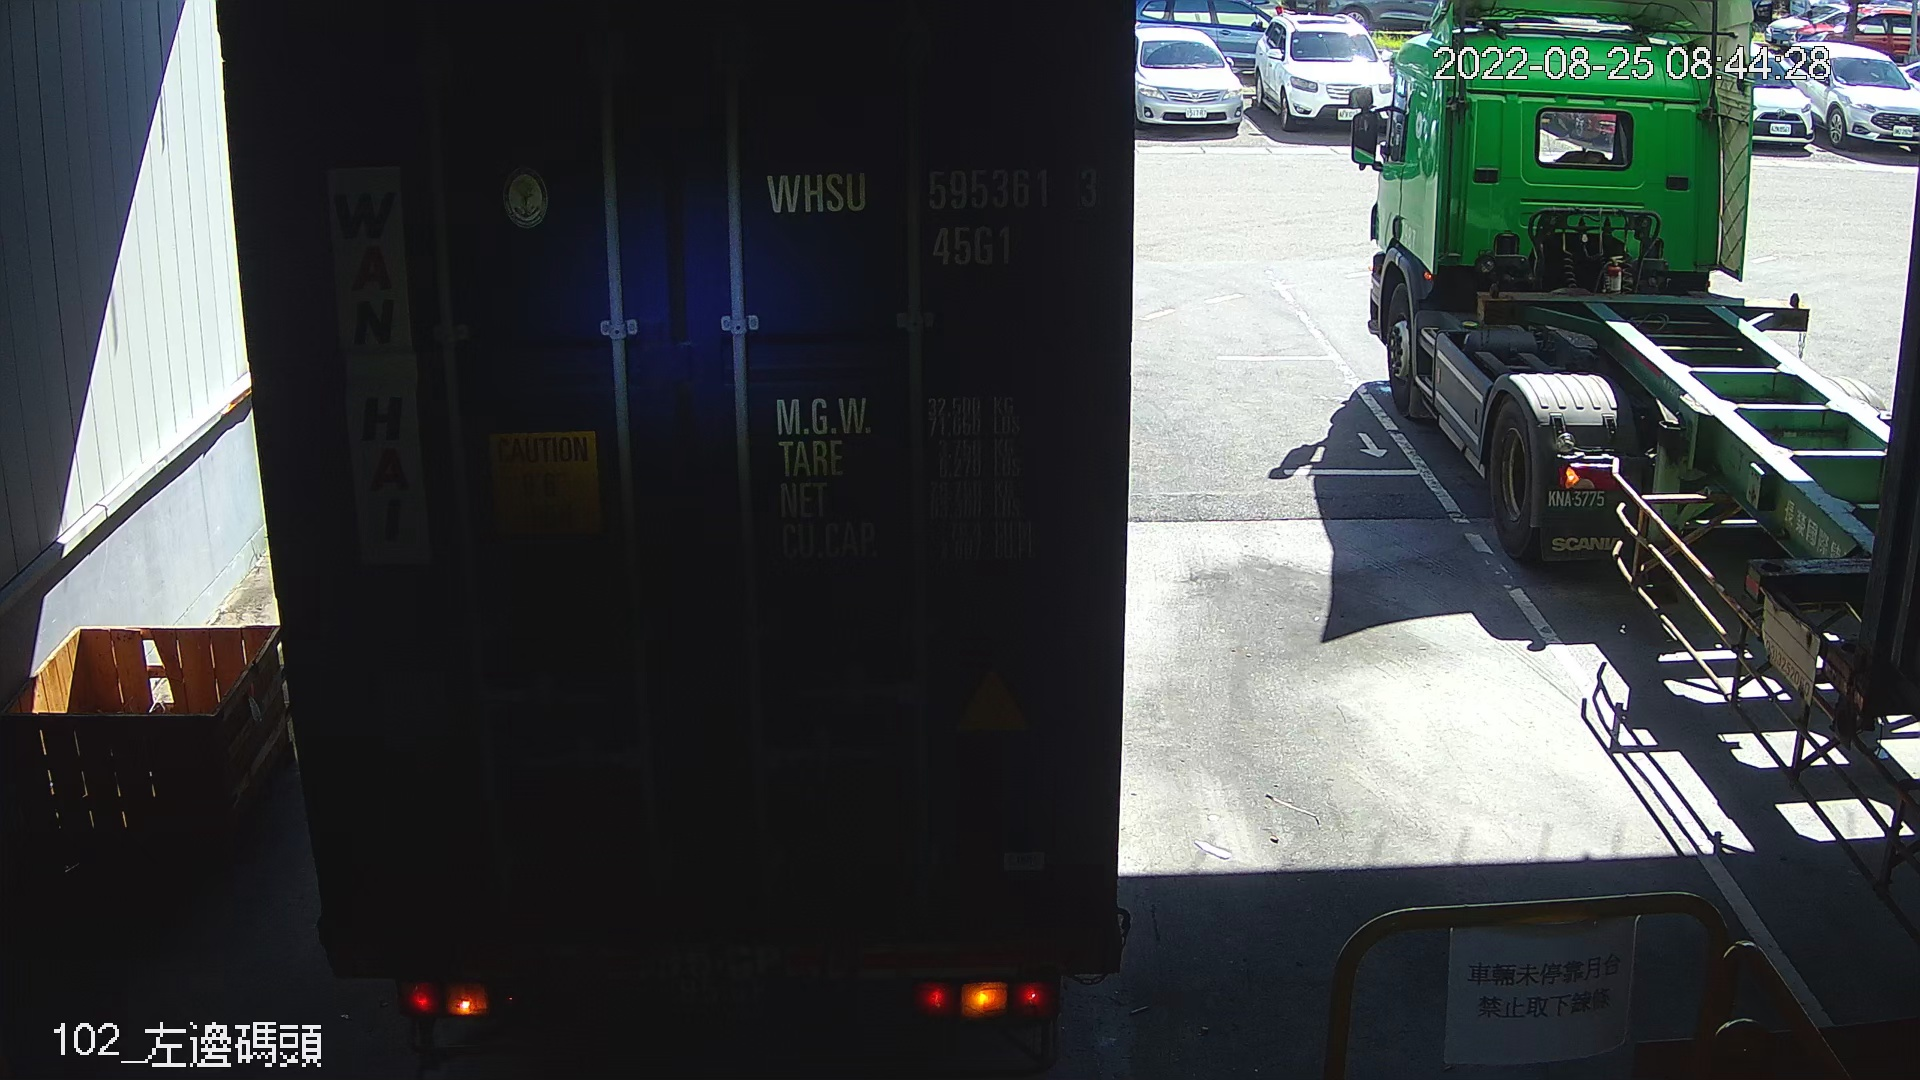container: (756, 152, 1112, 277)
